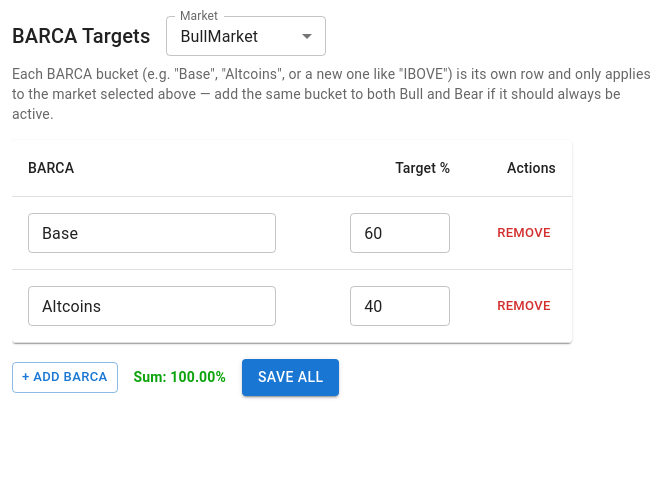
Test: BarcaTargetsTab › adding a new row starts at 0% and breaks the sum until edited
Click the button "+ Add BARCA" at (65, 377), box [12,362,118,393]
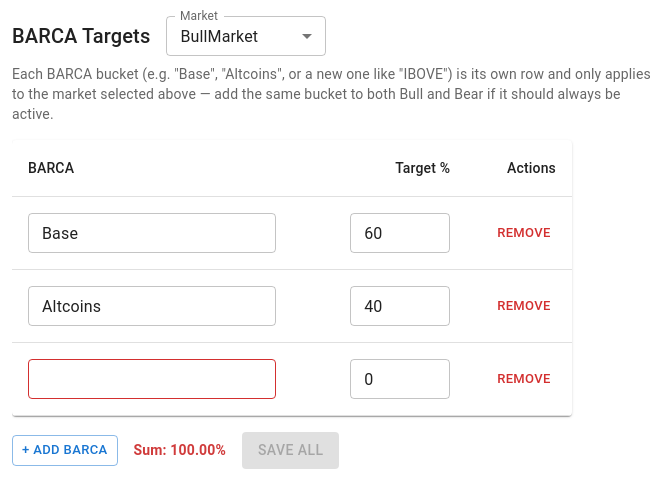
expect the text "Sum: 100.00%" is shown: met, box [134,440,226,460]
expect the button "Save All" is disabled: met, box [242,432,339,468]
Type "IBOVE" into the 3rd field at (152, 379), box [28,359,276,399]
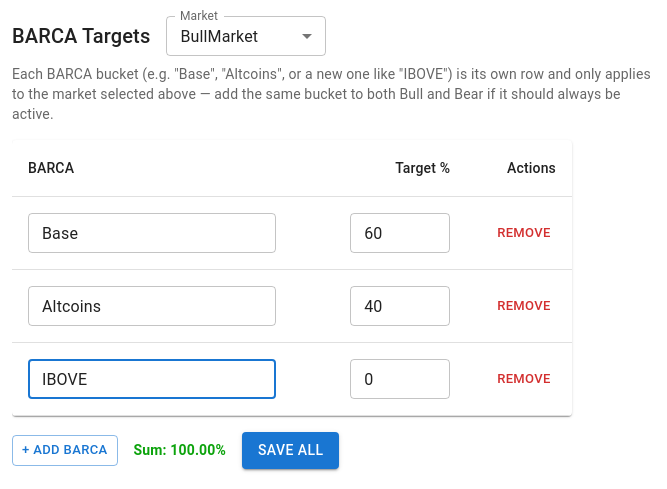
expect the button "Save All" is enabled: met, box [242,432,339,468]
